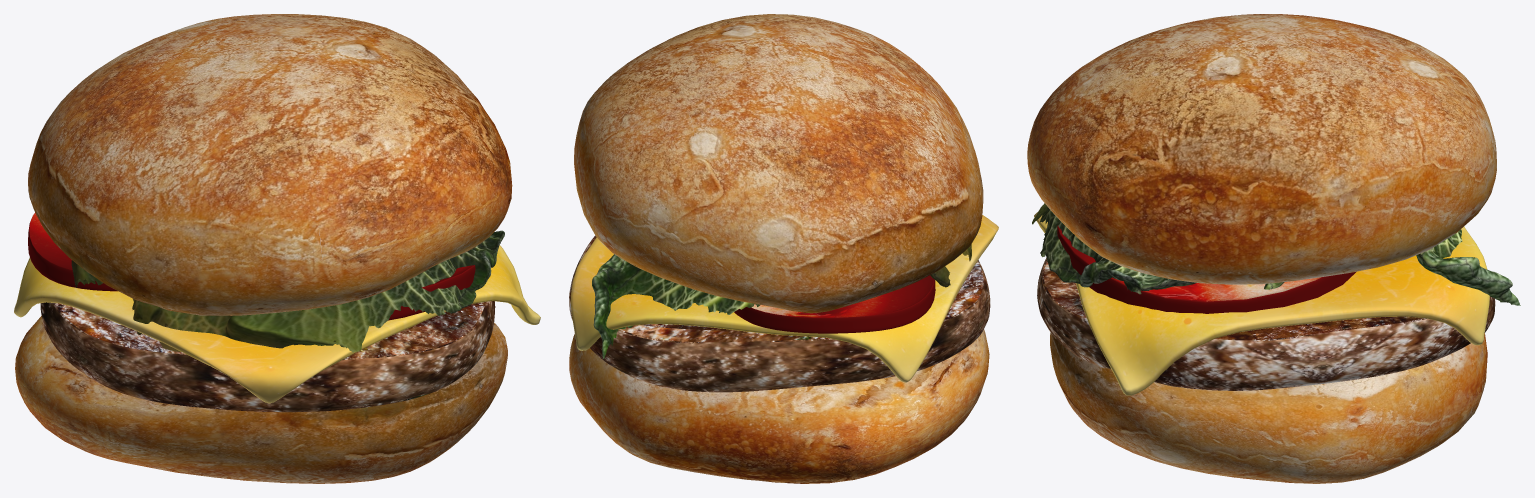
File: burger-illustration.glb
The picture shows the model from 3 angles, left to right: view 1: azimuth 30°, elevation 25°; view 2: azimuth 150°, elevation 25°; view 3: azimuth 270°, elevation 25°; orthographic projection. The views are drawn at different scales.
Visible parts, largest first — view 1: Illustrative tabletop scale; view 2: Illustrative tabletop scale; view 3: Illustrative tabletop scale.
Part boxes in pixels (bbox=[...]): Illustrative tabletop scale: bbox=[14, 14, 540, 483]; Illustrative tabletop scale: bbox=[569, 14, 998, 483]; Illustrative tabletop scale: bbox=[1027, 14, 1520, 483].
Size of the model in its own units: 0.1514 by 0.1369 by 0.16.
Materials: 7 (6 with a texture image).
